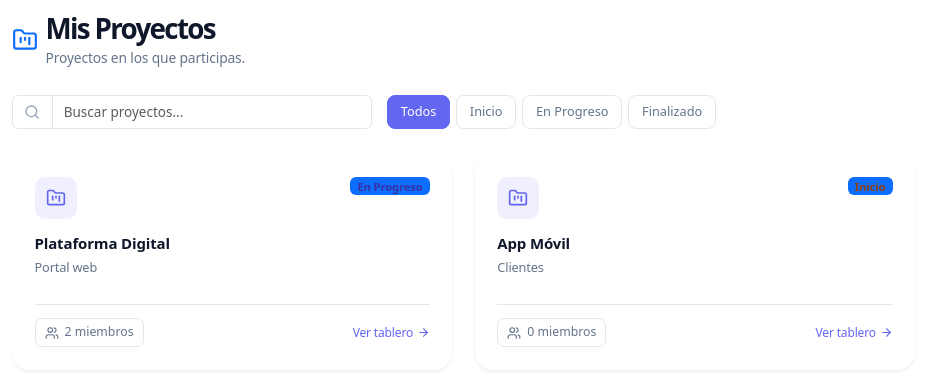
Scenario: UserProjects › filtra por búsqueda de texto
Expected: the heading "Plataforma Digital" is shown, 34,234 -> 170,254
Type "Móvil" into the field with placeholder "Buscar proyectos...". click: (212, 112)
box: 52,95 -> 372,129
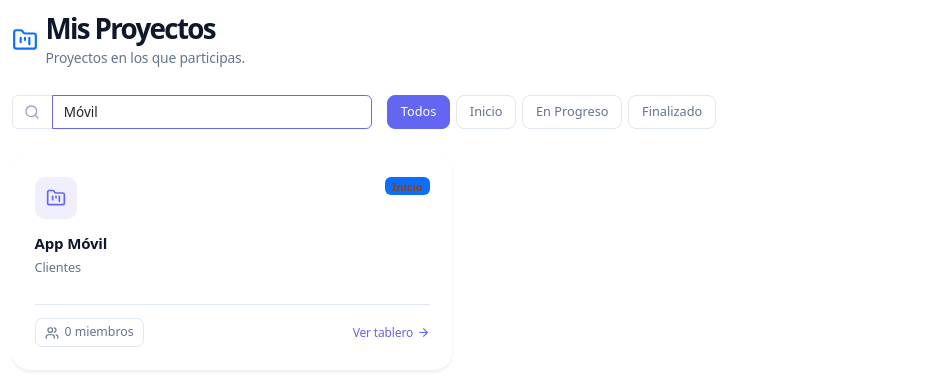
Expected: the heading "App Móvil" is shown, 34,234 -> 107,254
Expected: the heading "Plataforma Digital" is gone
